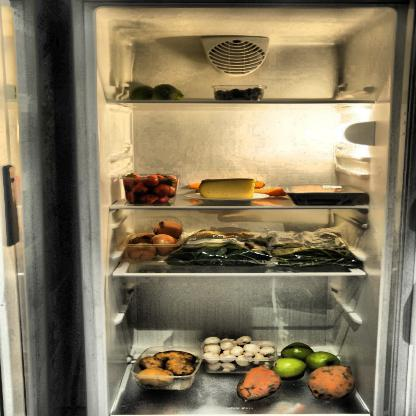apple: (272, 342, 345, 380)
blueberries: (212, 82, 269, 102)
carrot: (253, 180, 287, 200)
cheese: (198, 178, 256, 201)
green_beans: (269, 229, 359, 265)
lime: (127, 82, 190, 102)
mushrooms: (199, 335, 282, 373)
onion: (128, 220, 185, 262)
potato: (135, 348, 205, 391)
spinach: (162, 228, 273, 268)
strawberries: (123, 170, 179, 205)
sweet_potato: (235, 364, 285, 401), (308, 366, 357, 402)
